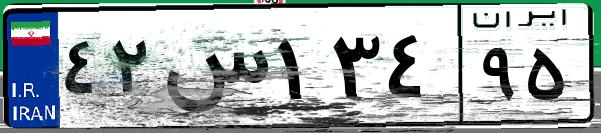1: (270, 28, 330, 110)
2: (110, 28, 158, 98)
3: (330, 28, 385, 110)
4: (385, 28, 445, 110), (57, 26, 110, 100)
5: (525, 38, 570, 115)
9: (475, 38, 525, 113)
س: (158, 20, 270, 120)
